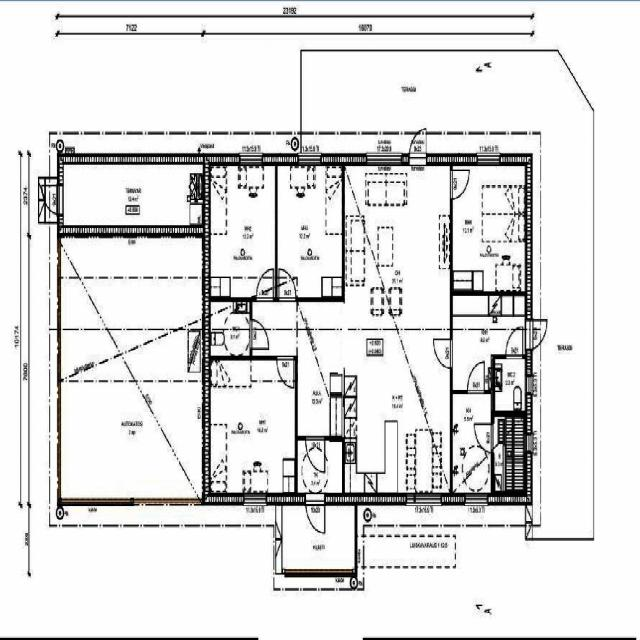door: (306, 492, 325, 537), (525, 319, 550, 348), (306, 436, 325, 471), (40, 186, 64, 213), (410, 125, 426, 165), (250, 319, 270, 349), (433, 339, 453, 367), (474, 424, 494, 452), (506, 326, 523, 358), (277, 356, 294, 388), (450, 170, 469, 198), (468, 362, 484, 394), (257, 269, 273, 301), (279, 269, 295, 301)
